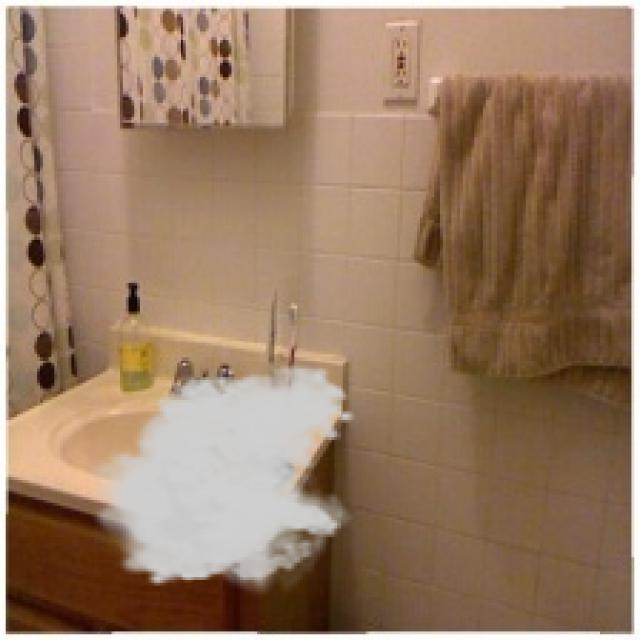Smoke: (82, 363, 358, 600)
